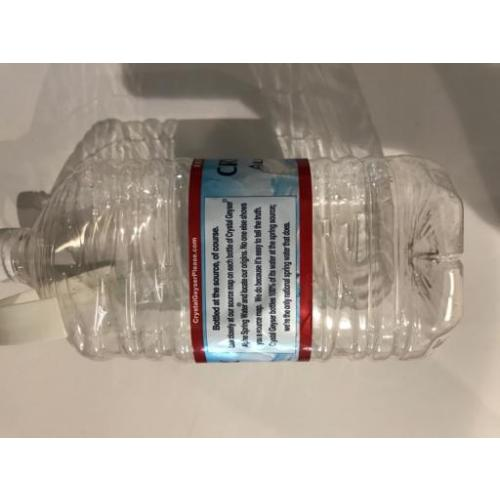plastic: (0, 158, 464, 364)
